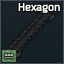Hexagon medium length rail Anodized Red: (0, 0, 64, 64)
